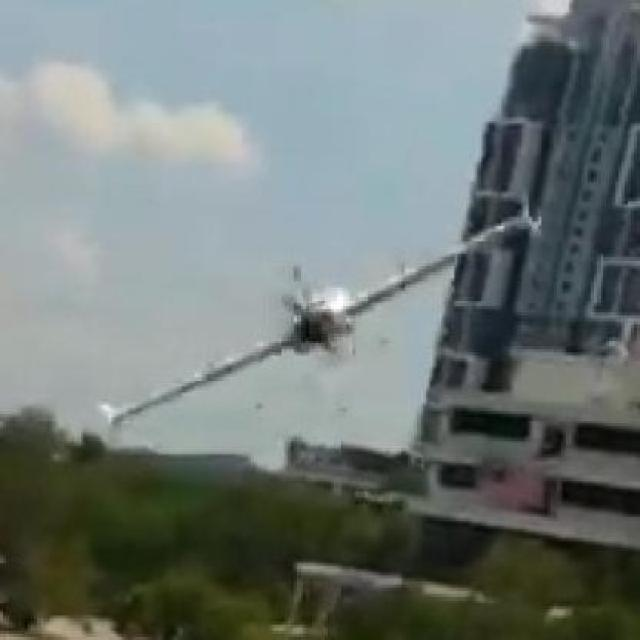iha: (96, 201, 541, 431)
